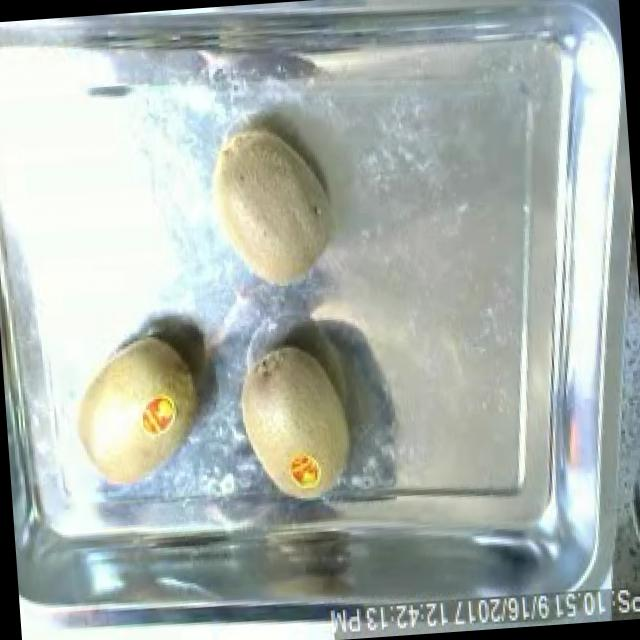Fruit: (198, 112, 344, 302), (56, 323, 210, 500), (227, 330, 369, 510)
